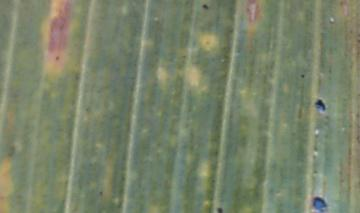tarspot: (312, 196, 327, 213), (315, 98, 326, 112), (53, 54, 61, 62), (201, 3, 209, 10), (98, 190, 105, 197), (217, 206, 224, 213), (300, 72, 306, 80)
